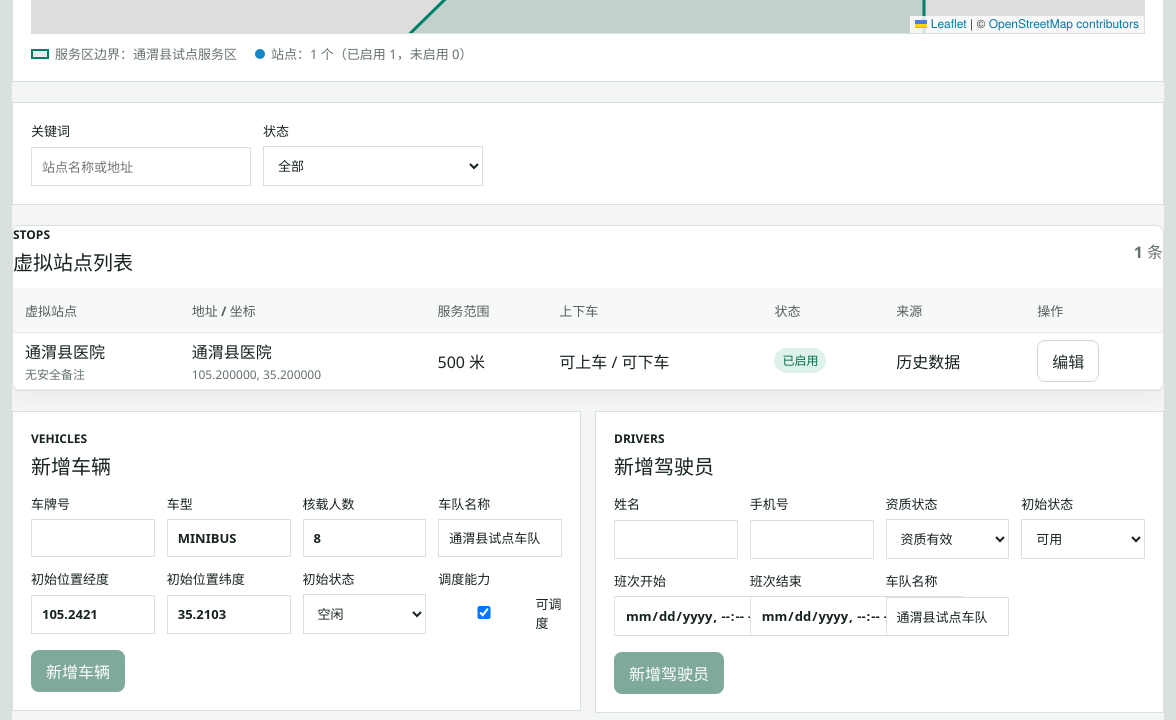
Test: ResourcesPage › scrolls to the editor when a virtual stop is selected for editing
(page scrolled)
Click the button "编辑" at (1068, 361), box [1037,340,1099,382]
(page scrolled)
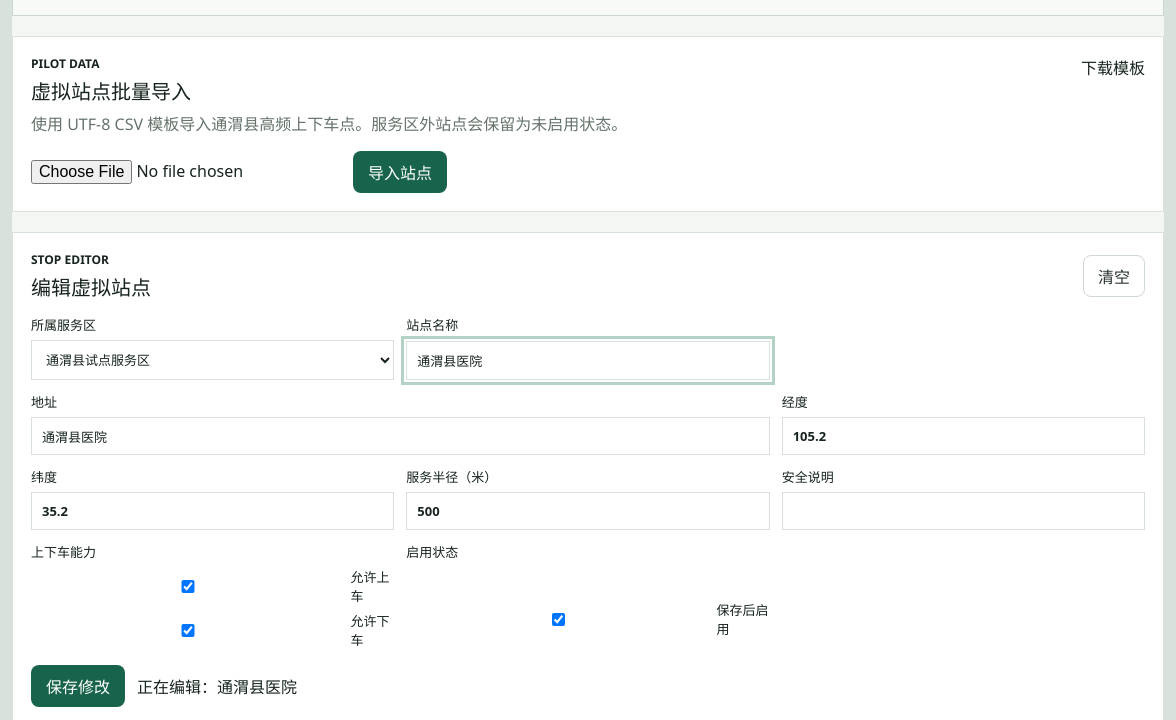
Expected: the field labelled "站点名称" holds "通渭县医院", [406,341,770,380]
Expected: the text "正在编辑：通渭县医院" is shown, [137,674,297,698]
